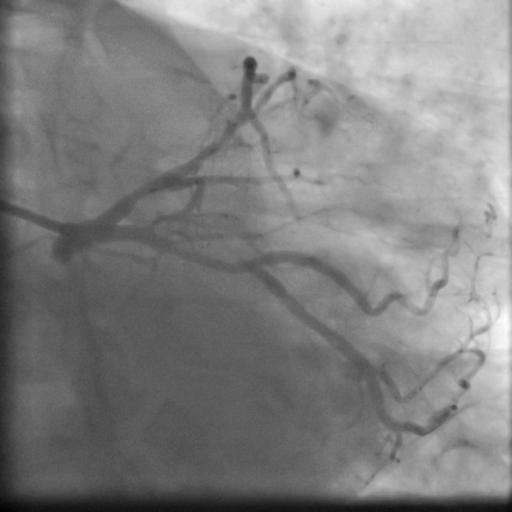Stenosis: (126, 181, 162, 199)
